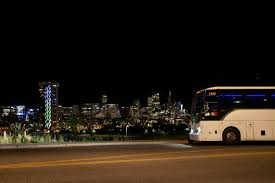bus: (188, 84, 275, 146)
